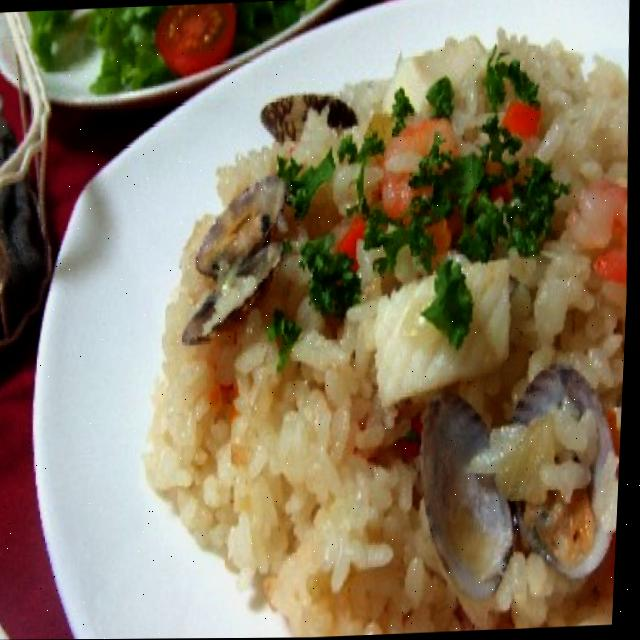米饭主食: (115, 0, 640, 639)
